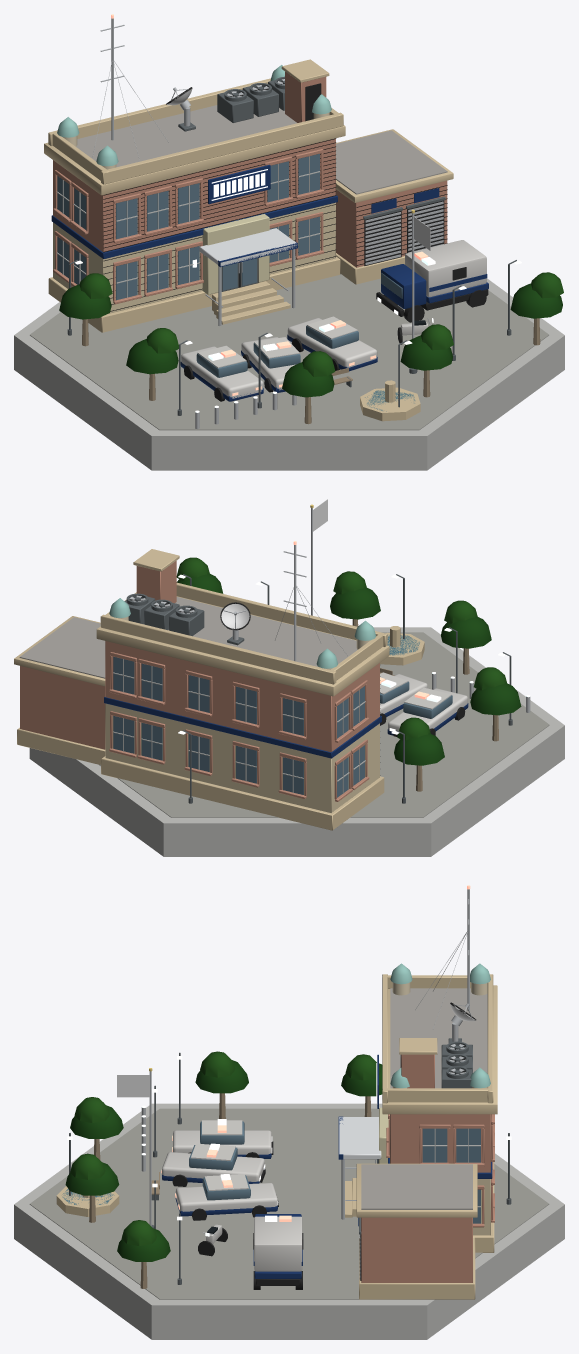
The model's file is policeStation_arab.glb.
3 renders of one model, top to bottom at view 1: azimuth 30°, elevation 25°; view 2: azimuth 150°, elevation 25°; view 3: azimuth 270°, elevation 25°, orthographic. The views are drawn at different scales.
Parts seen in each view (by area): view 1: pavers, stone, wall_concrete, brick, paint, glass, gravel, leaf, dark, metal, steel_dark, cladding (+3 smaller); view 2: stone, wall_concrete, brick, pavers, glass, leaf, gravel, paint, steel_dark, metal, copper, wood; view 3: pavers, wall_concrete, stone, brick, gravel, paint, leaf, glass, steel_dark, metal, cladding, dark (+3 smaller).
Boxes of the visible parts, left/top/right/bottom form: pavers: left=30, top=274, right=548, bottom=430; stone: left=44, top=59, right=453, bottom=421; wall_concrete: left=14, top=156, right=564, bottom=470; brick: left=53, top=71, right=447, bottom=304; paint: left=51, top=87, right=488, bottom=401; glass: left=57, top=154, right=415, bottom=411; gravel: left=76, top=105, right=447, bottom=194; leaf: left=59, top=272, right=563, bottom=397; dark: left=103, top=81, right=488, bottom=401; metal: left=92, top=18, right=443, bottom=428; steel_dark: left=67, top=76, right=516, bottom=415; cladding: left=199, top=228, right=297, bottom=266; stone: left=14, top=549, right=424, bottom=830; wall_concrete: left=29, top=627, right=564, bottom=856; brick: left=20, top=561, right=379, bottom=801; pavers: left=99, top=632, right=549, bottom=817; glass: left=113, top=635, right=452, bottom=797; leaf: left=176, top=557, right=521, bottom=765; gravel: left=19, top=597, right=357, bottom=678; paint: left=104, top=603, right=468, bottom=758; steel_dark: left=124, top=574, right=512, bottom=803; metal: left=129, top=508, right=530, bottom=712; copper: left=109, top=598, right=376, bottom=668; wood: left=352, top=619, right=498, bottom=791; pavers: left=29, top=1108, right=549, bottom=1299; wall_concrete: left=14, top=1103, right=564, bottom=1339; stone: left=56, top=974, right=497, bottom=1299; brick: left=361, top=1054, right=494, bottom=1282; gravel: left=361, top=988, right=487, bottom=1209; paint: left=162, top=1003, right=492, bottom=1278; leaf: left=65, top=1051, right=382, bottom=1261; glass: left=62, top=1121, right=480, bottom=1223; steel_dark: left=69, top=1038, right=511, bottom=1284; metal: left=141, top=889, right=471, bottom=1279; cladding: left=339, top=1117, right=381, bottom=1159; dark: left=172, top=1002, right=476, bottom=1289.
Size of the model in its own units: 21.3 by 15.3 by 24.6.
